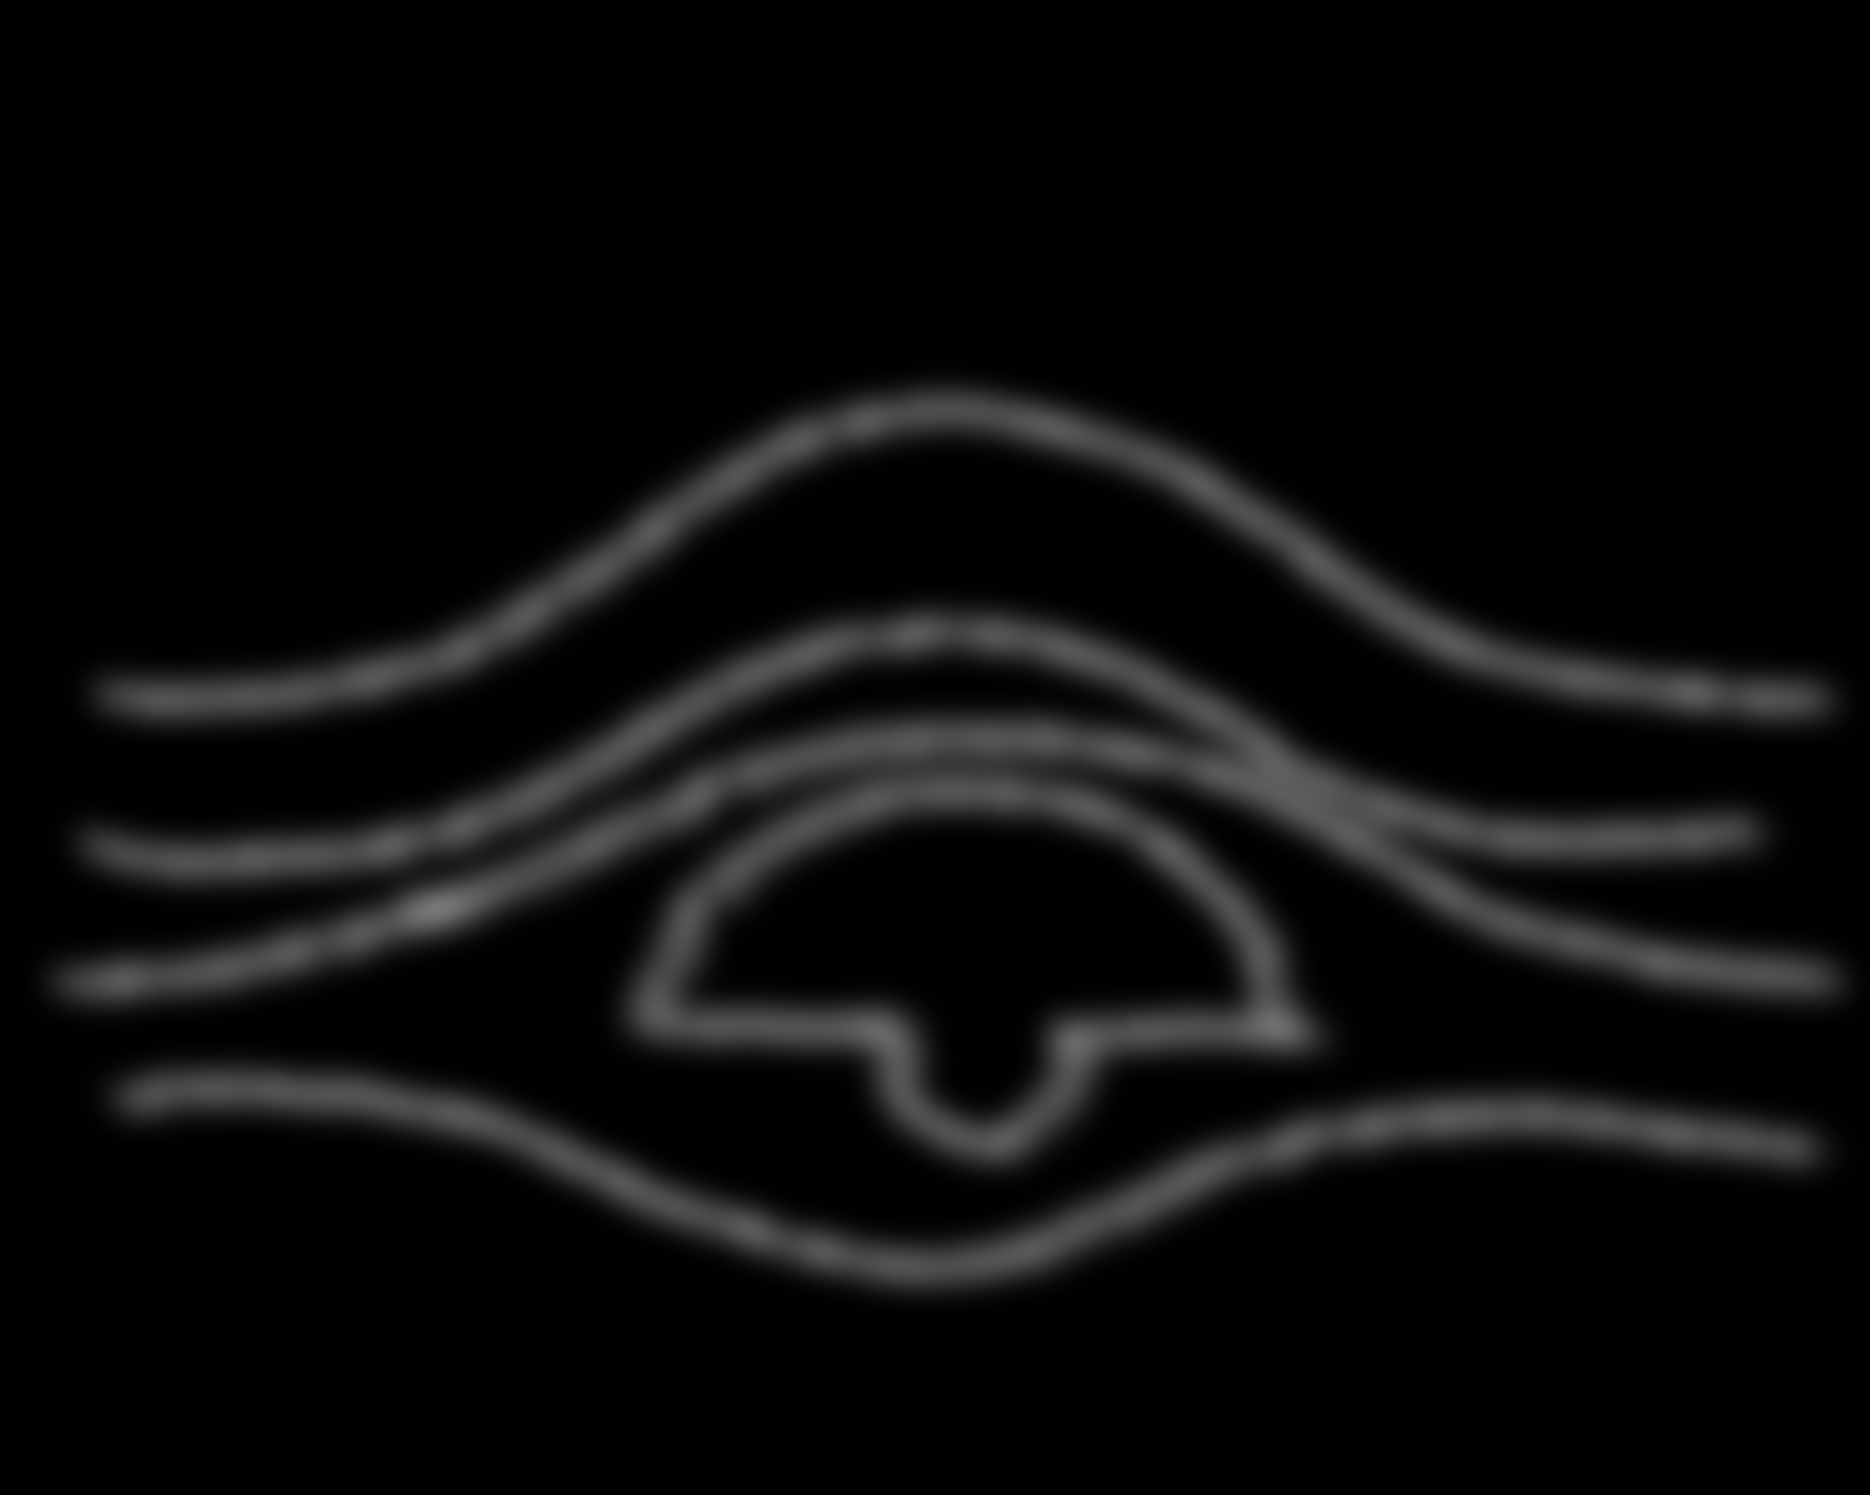Transition flow: (61, 378, 1832, 1313)
